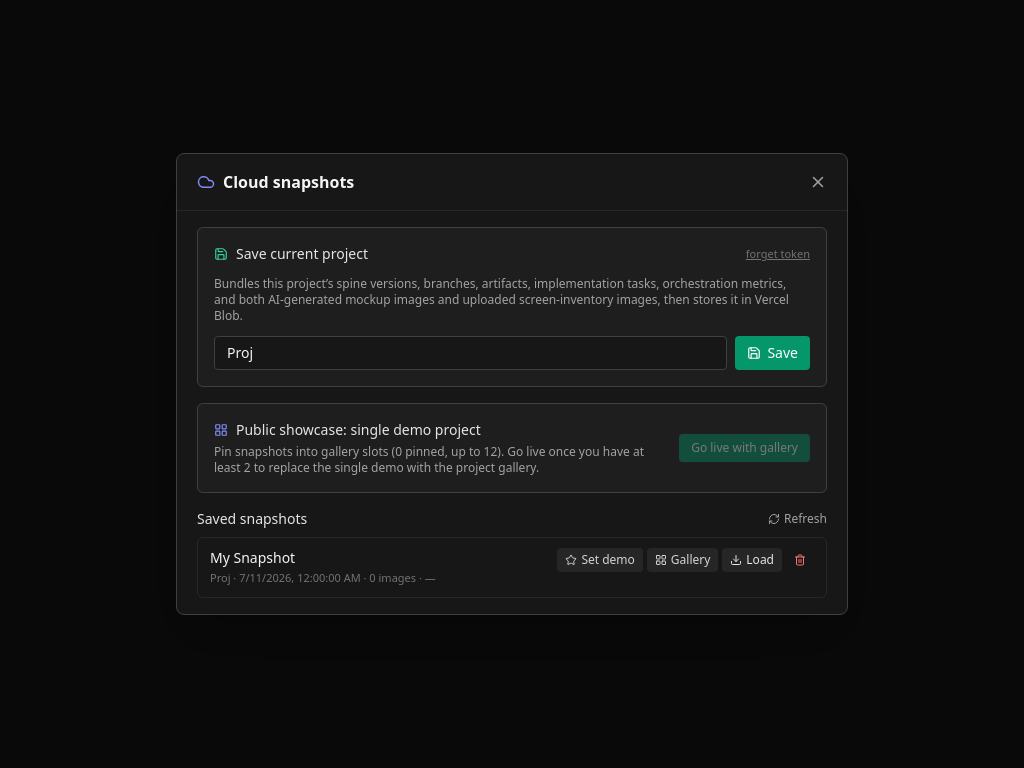
SnapshotsPanel pin-time completeness gate (SYN-003) › BLOCKS a legacy zero-image snapshot with no completeness metadata, asking for a re-save
This screenshot has width=1024, height=768.
Expected: the text "My Snapshot" is shown, x1=210 y1=548 x2=295 y2=567
Click the button "Set demo". click: (600, 560)
box: x1=557 y1=548 x2=643 y2=572
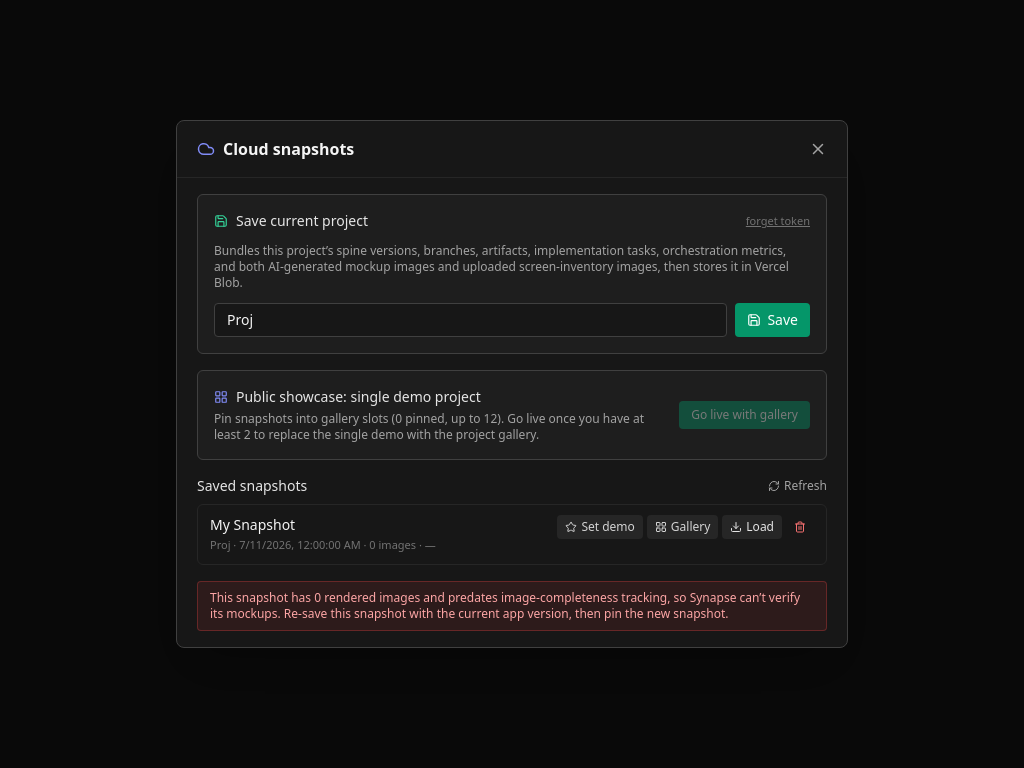
Expected: the text "Re-save this snapshot with the current app version" is shown, x1=210 y1=589 x2=800 y2=622
